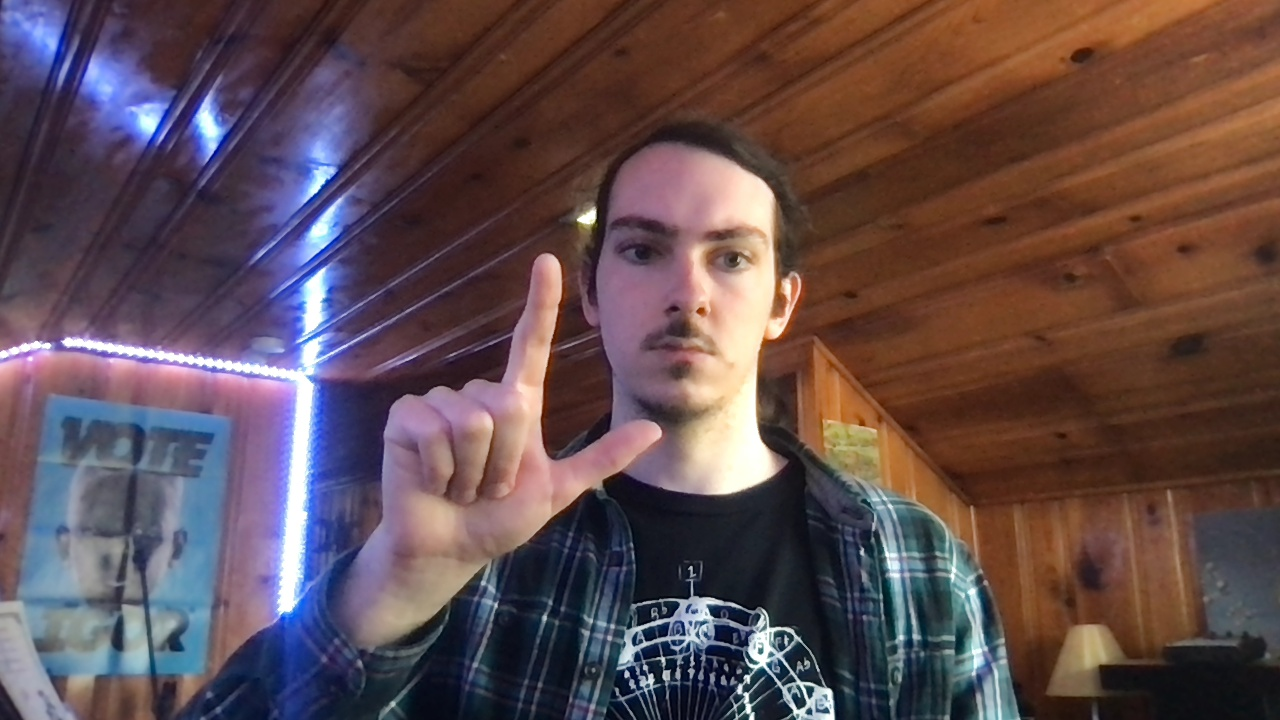l: (377, 251, 666, 564)
